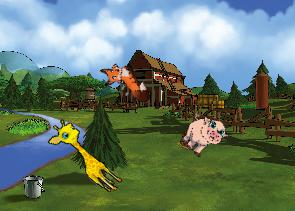fox: (96, 53, 153, 115)
giraffe: (43, 115, 131, 196)
pig: (175, 107, 231, 163)
